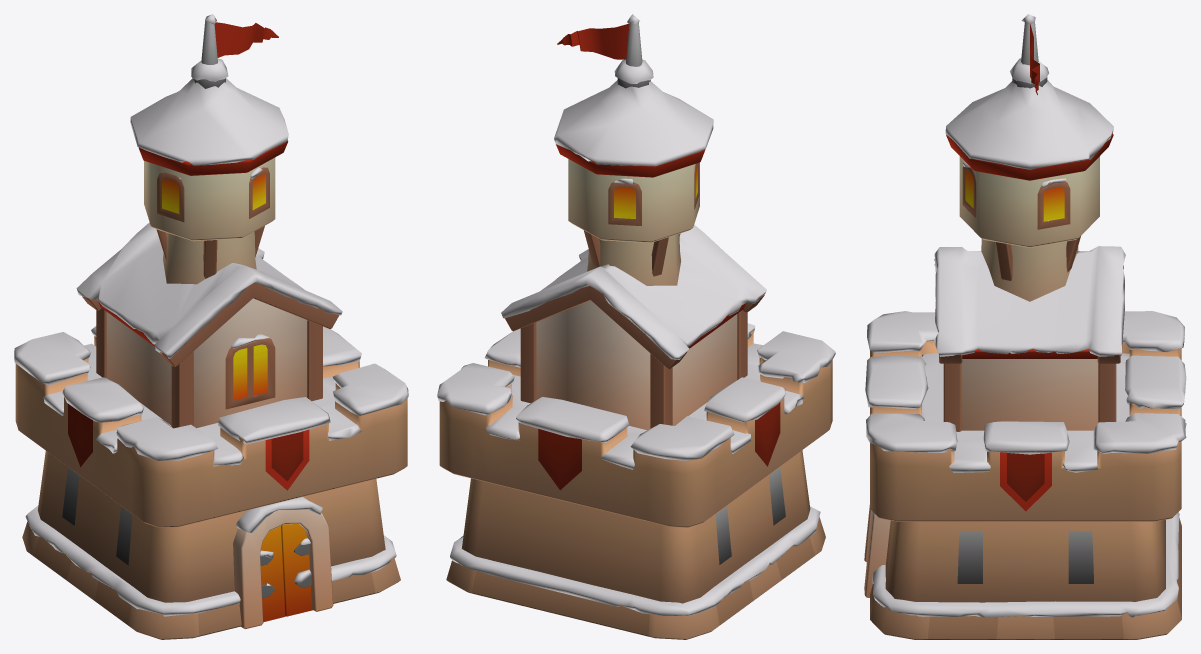
The model's file is SmallCastleSnowy_1.fbx.
The picture shows the model from 3 angles, left to right: view 1: azimuth 30°, elevation 25°; view 2: azimuth 150°, elevation 25°; view 3: azimuth 270°, elevation 25°; orthographic projection. The views are drawn at different scales.
Visible parts, largest first — view 1: SmallCastleSnowy_1; view 2: SmallCastleSnowy_1; view 3: SmallCastleSnowy_1.
Boxes of the visible parts, <box> form: SmallCastleSnowy_1: <box>14,14,408,639</box>; SmallCastleSnowy_1: <box>437,14,835,639</box>; SmallCastleSnowy_1: <box>864,14,1186,639</box>.
Bounding box in the file's own units: 373 × 725 × 375.
